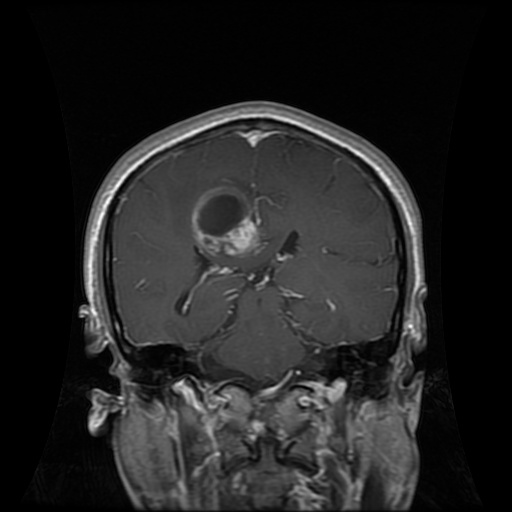glioma: (185, 176, 270, 260)
